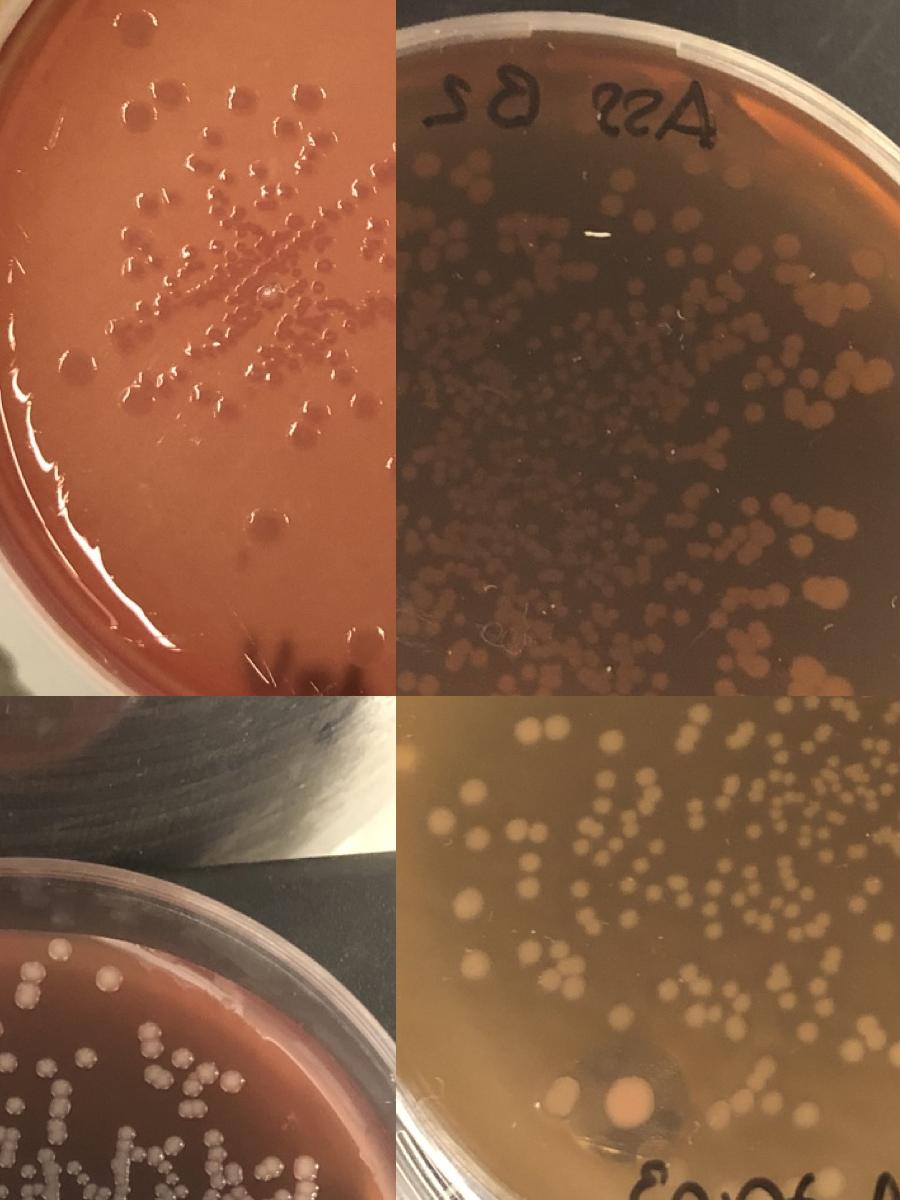assalmonicida: (712, 653, 852, 696), (767, 492, 860, 542), (413, 148, 496, 199), (824, 346, 894, 400), (416, 218, 475, 272), (780, 389, 836, 432), (444, 636, 490, 674), (662, 241, 716, 272), (800, 577, 847, 609), (396, 670, 441, 696), (480, 671, 524, 696), (138, 1020, 164, 1062), (852, 246, 885, 278), (203, 1126, 229, 1166), (840, 282, 872, 314), (669, 206, 703, 235), (94, 966, 125, 994), (763, 581, 791, 609), (789, 532, 817, 560), (740, 400, 768, 428), (0, 1052, 18, 1094), (72, 1044, 98, 1072), (796, 367, 822, 392), (608, 169, 635, 193), (681, 151, 708, 175), (744, 654, 770, 678), (738, 368, 764, 392), (772, 262, 798, 286), (774, 234, 800, 258), (632, 210, 658, 234), (601, 194, 627, 218), (727, 164, 753, 188), (47, 1095, 72, 1119), (47, 938, 72, 962), (729, 250, 756, 272), (466, 150, 493, 172), (163, 1134, 187, 1158), (152, 1069, 176, 1093), (170, 1048, 194, 1072), (706, 450, 729, 474), (4, 1094, 27, 1118), (220, 1185, 256, 1200), (196, 1062, 220, 1084), (36, 1056, 58, 1080), (715, 650, 738, 672), (706, 609, 729, 631), (650, 670, 672, 692), (518, 662, 540, 684), (670, 606, 692, 628), (416, 512, 438, 534), (398, 463, 420, 485), (627, 298, 649, 320), (624, 274, 646, 296), (415, 207, 437, 229), (736, 546, 756, 568), (396, 502, 412, 524), (209, 1172, 227, 1190), (532, 687, 554, 696), (77, 1172, 89, 1186), (166, 1172, 178, 1186), (21, 1196, 35, 1200)
pddamselae: (704, 1088, 787, 1130), (766, 892, 832, 944), (745, 770, 798, 834), (592, 806, 640, 870), (542, 938, 587, 994), (839, 781, 896, 816), (513, 712, 572, 745), (857, 736, 900, 778), (676, 704, 711, 754), (728, 862, 764, 908), (633, 764, 664, 816), (678, 1004, 725, 1030), (667, 870, 696, 910), (856, 1015, 888, 1050), (680, 961, 711, 997), (799, 724, 832, 756), (781, 874, 819, 901), (721, 979, 752, 1012), (796, 824, 832, 852), (508, 819, 550, 843), (764, 730, 792, 766), (576, 904, 604, 936), (451, 890, 482, 918), (423, 805, 454, 833), (743, 908, 776, 934), (794, 1101, 824, 1129), (550, 1078, 580, 1106), (764, 960, 788, 995), (460, 950, 490, 978), (515, 937, 545, 965), (465, 823, 495, 851), (460, 777, 490, 805), (598, 727, 628, 755), (607, 1004, 637, 1030), (575, 816, 607, 840), (820, 946, 844, 977), (687, 795, 707, 832), (842, 1038, 866, 1064), (796, 1018, 820, 1044), (872, 919, 896, 945), (881, 700, 900, 728), (658, 980, 678, 1000), (806, 977, 826, 997), (700, 899, 720, 919), (848, 896, 868, 916), (644, 882, 664, 902), (705, 877, 725, 897), (521, 853, 541, 873), (845, 842, 865, 862), (570, 838, 590, 858), (593, 798, 613, 818), (713, 794, 733, 814), (594, 770, 614, 790), (776, 696, 796, 716), (816, 997, 836, 1016), (779, 990, 799, 1009), (704, 922, 724, 941), (619, 909, 638, 929), (570, 878, 589, 898), (618, 874, 637, 894), (630, 856, 650, 875), (714, 856, 734, 875), (866, 876, 885, 895), (518, 880, 538, 898), (816, 844, 834, 864), (648, 838, 666, 858), (744, 822, 762, 842), (889, 1039, 900, 1067), (824, 754, 842, 771), (802, 696, 822, 711), (896, 807, 900, 824)
tmaritimum: (120, 72, 192, 136), (286, 396, 332, 456), (190, 380, 246, 424), (346, 621, 386, 662), (116, 8, 156, 49), (249, 505, 289, 545), (57, 348, 97, 388), (246, 158, 277, 209), (226, 80, 264, 118), (290, 79, 328, 117), (119, 383, 156, 420), (350, 386, 386, 424), (135, 188, 179, 218), (326, 348, 356, 386), (122, 253, 160, 282), (199, 121, 229, 150), (273, 114, 303, 142), (203, 325, 227, 356), (372, 157, 396, 186), (294, 146, 317, 176), (206, 204, 230, 231), (356, 236, 380, 262), (312, 205, 332, 232), (262, 368, 286, 390), (273, 314, 293, 340), (313, 232, 336, 254), (153, 295, 169, 320), (176, 260, 196, 278), (184, 342, 202, 360), (322, 328, 340, 346), (179, 242, 197, 260), (207, 238, 225, 256), (220, 168, 238, 186), (277, 183, 295, 200), (341, 318, 359, 334), (310, 280, 328, 296), (206, 186, 224, 202), (352, 182, 370, 198), (186, 154, 204, 170), (134, 300, 152, 315), (286, 284, 304, 299), (316, 258, 334, 273), (286, 214, 302, 230), (337, 199, 354, 214), (246, 363, 260, 381), (137, 324, 155, 338), (111, 320, 129, 334), (296, 296, 314, 310), (378, 256, 396, 270), (367, 218, 385, 232), (120, 338, 136, 352), (262, 288, 276, 302), (161, 274, 175, 288), (136, 242, 150, 256), (234, 239, 248, 253), (231, 206, 245, 220), (272, 228, 286, 241)
